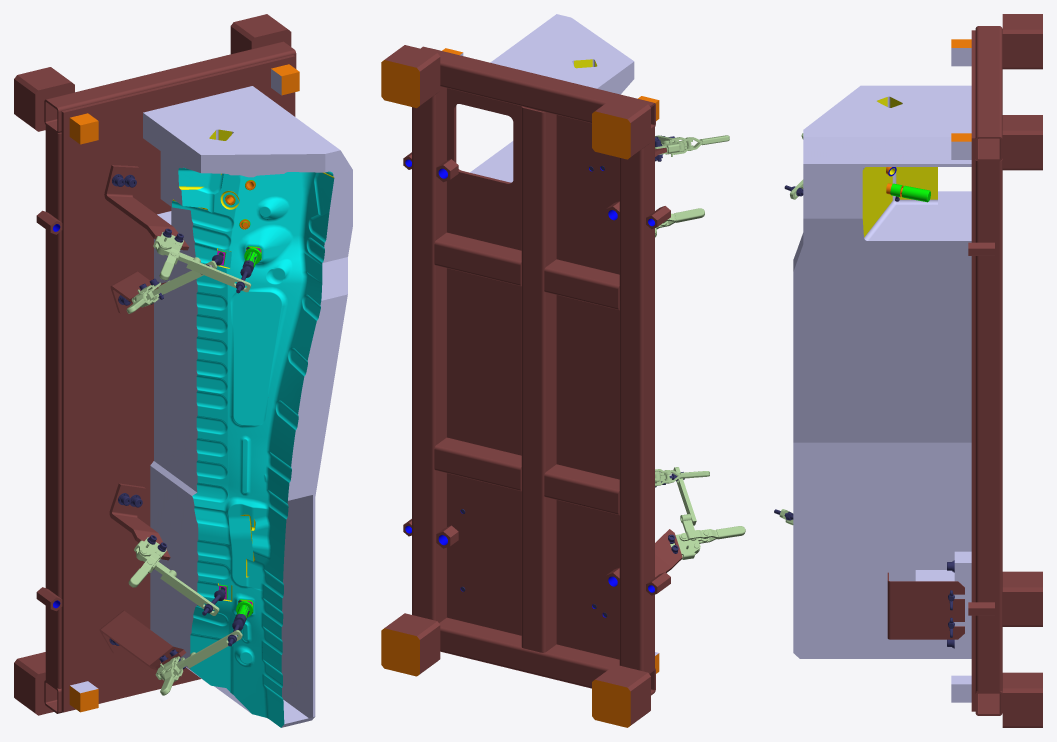
The model's file is FS146006_55717-0G030_K00260516_KEN.obj.
The picture shows the model from 3 angles, left to right: view 1: azimuth 30°, elevation 25°; view 2: azimuth 150°, elevation 25°; view 3: azimuth 270°, elevation 25°; orthographic projection. The views are drawn at different scales.
Visible parts, largest first — view 1: Shell_026, Shell_000, Shell_004, Shell_001, Shell_041, Shell_010, Shell_037, Shell_012, Shell_011, Shell_038, Shell_039, Shell_024 (+5 smaller); view 2: Shell_000, Shell_005, Shell_004, Shell_003, Shell_026, Shell_001, Shell_002, Shell_006, Shell_007, Shell_011, Shell_013, Shell_010 (+5 smaller); view 3: Shell_026, Shell_003, Shell_047, Shell_001, Shell_000, Shell_010, Shell_011, Shell_012, Shell_013, Shell_046, Shell_002, Shell_022 (+2 smaller).
Boxes of the visible parts, x1,y1,x2,y2 form: Shell_026: [143, 86, 352, 727]; Shell_000: [61, 55, 295, 712]; Shell_004: [45, 125, 61, 688]; Shell_001: [44, 41, 296, 133]; Shell_041: [99, 610, 186, 669]; Shell_010: [14, 67, 74, 131]; Shell_037: [104, 165, 188, 250]; Shell_012: [14, 652, 53, 715]; Shell_011: [230, 14, 291, 54]; Shell_038: [109, 483, 170, 560]; Shell_039: [110, 271, 165, 313]; Shell_024: [69, 681, 98, 712]; Shell_000: [431, 48, 654, 667]; Shell_005: [521, 106, 556, 652]; Shell_004: [619, 128, 654, 672]; Shell_003: [412, 86, 446, 622]; Shell_026: [470, 14, 634, 182]; Shell_001: [421, 46, 655, 130]; Shell_002: [439, 617, 655, 695]; Shell_006: [434, 437, 521, 491]; Shell_007: [434, 232, 521, 286]; Shell_011: [381, 45, 440, 108]; Shell_013: [381, 613, 440, 676]; Shell_010: [592, 96, 650, 159]; Shell_026: [793, 85, 971, 658]; Shell_003: [975, 159, 1002, 691]; Shell_047: [887, 572, 964, 639]; Shell_001: [975, 26, 1002, 161]; Shell_000: [971, 30, 975, 711]; Shell_010: [1002, 14, 1042, 69]; Shell_011: [1002, 115, 1042, 170]; Shell_012: [1002, 571, 1042, 626]; Shell_013: [1002, 672, 1042, 727]; Shell_046: [915, 551, 971, 657]; Shell_002: [975, 690, 1002, 715]; Shell_022: [951, 39, 971, 66].
Bounding box in the file's own units: 428 × 980 × 400.
